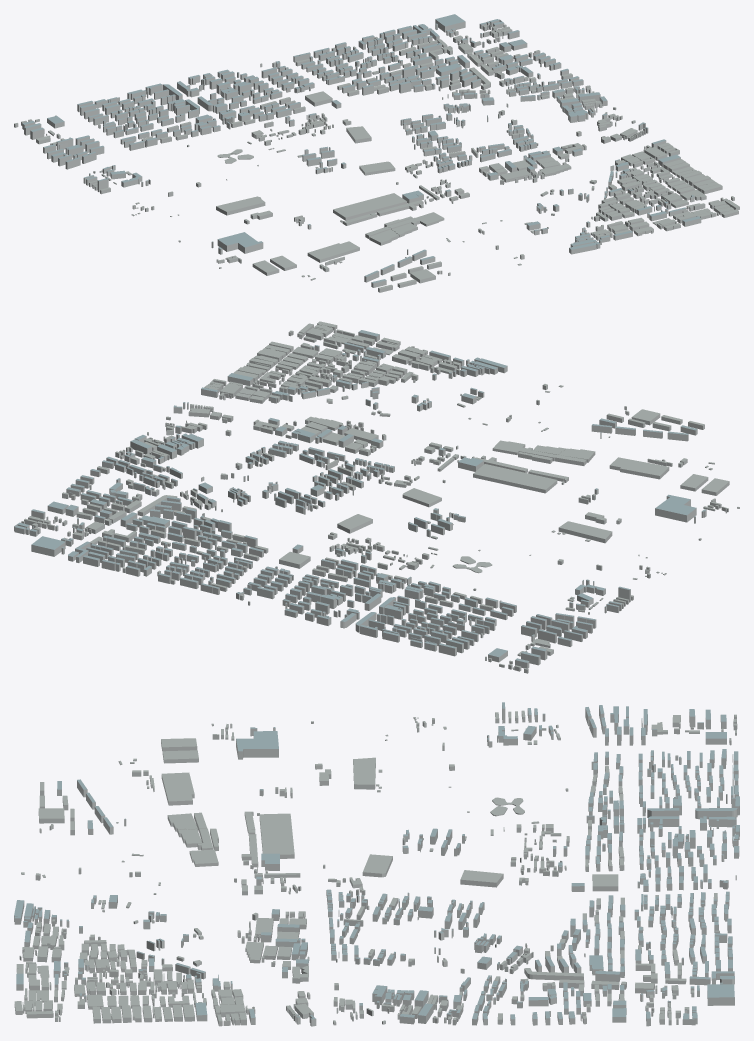
File: far.glb
3 views of the same model, one above another, from view 1: azimuth 30°, elevation 25°; view 2: azimuth 150°, elevation 25°; view 3: azimuth 270°, elevation 25° (orthographic). The views are drawn at different scales.
Size of the model in its own units: 2131 by 46.86 by 2093.
